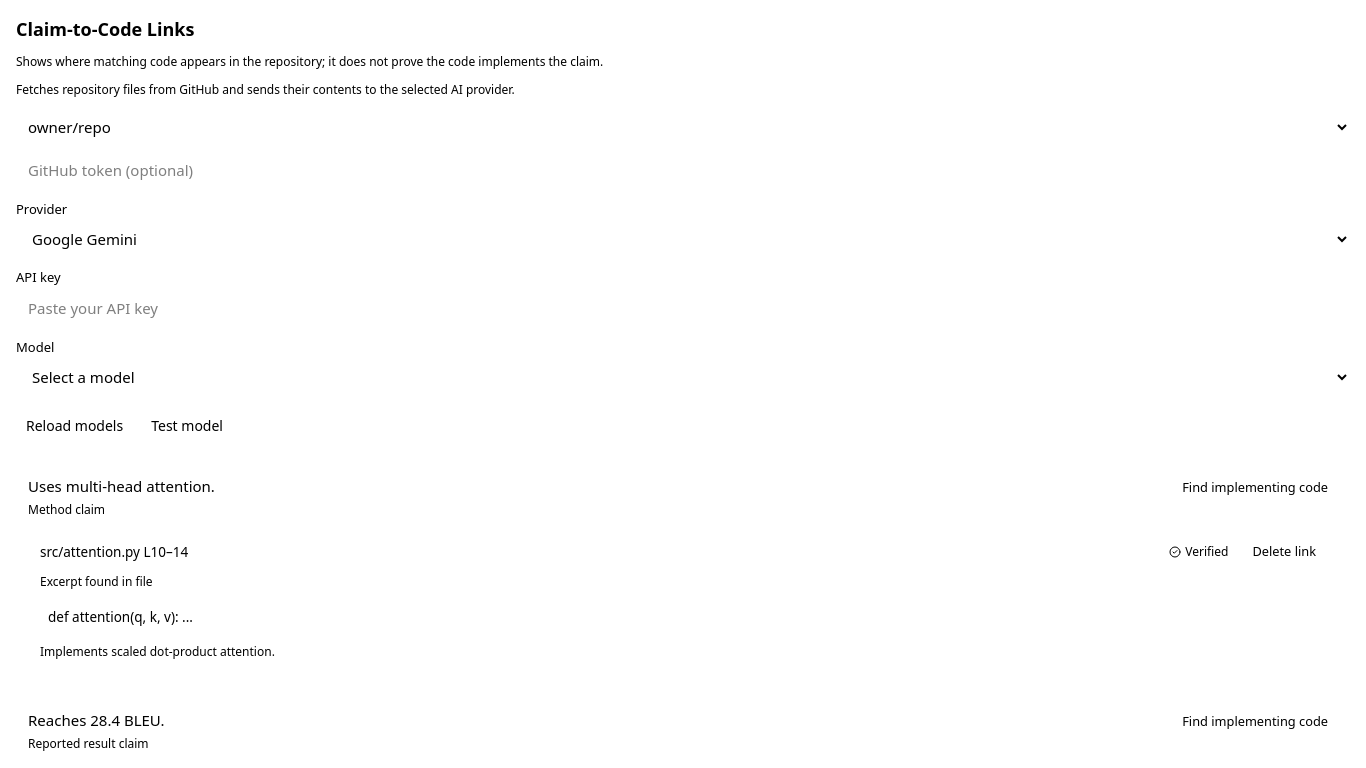
Test case: CodeLinksPanel › deletes a link
This screenshot has width=1366, height=768.
Click the button "Delete link" at {"x": 1284, "y": 552}, box x1=1242 y1=538 x2=1326 y2=566
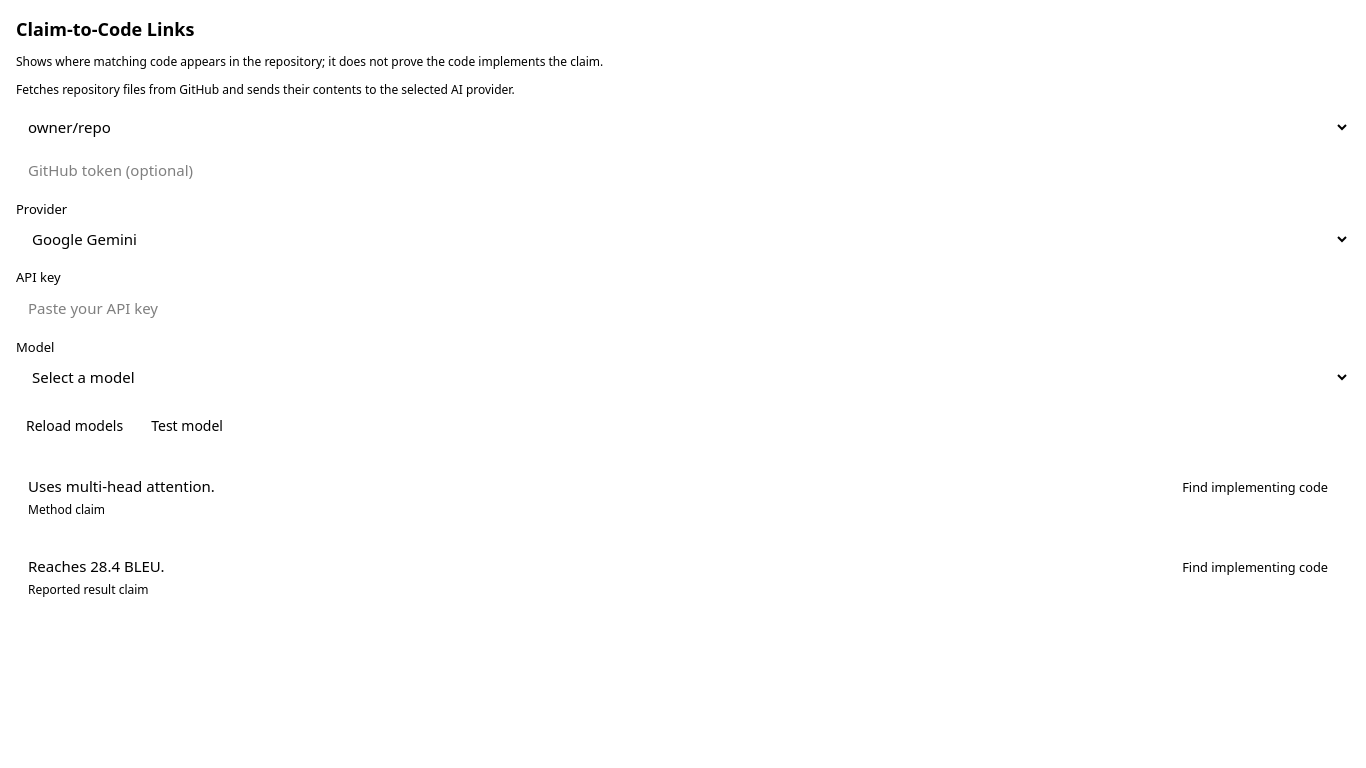
Now the text "src/attention.py" is gone
